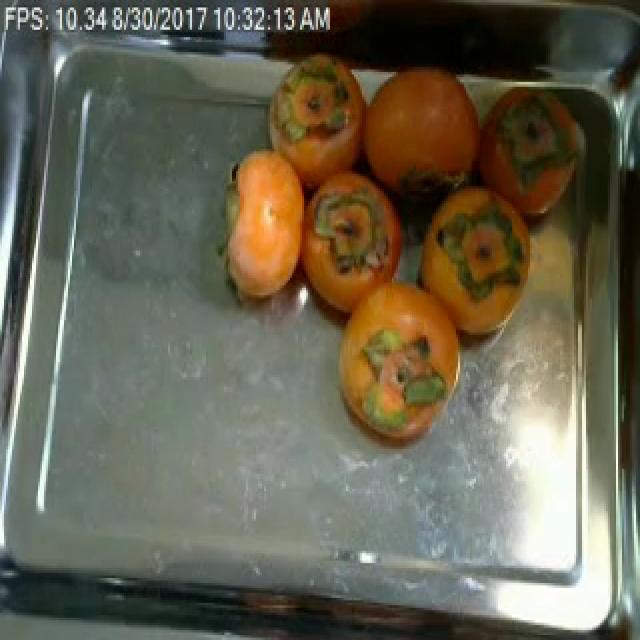Fruit: (350, 47, 502, 228), (212, 136, 322, 308), (420, 166, 532, 298)
